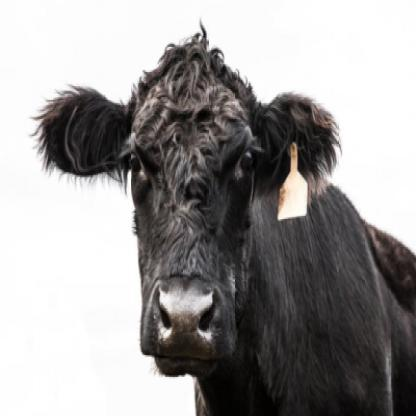lower: (156, 357, 218, 376)
mouth: (140, 278, 237, 378)
upper: (153, 284, 216, 352)
